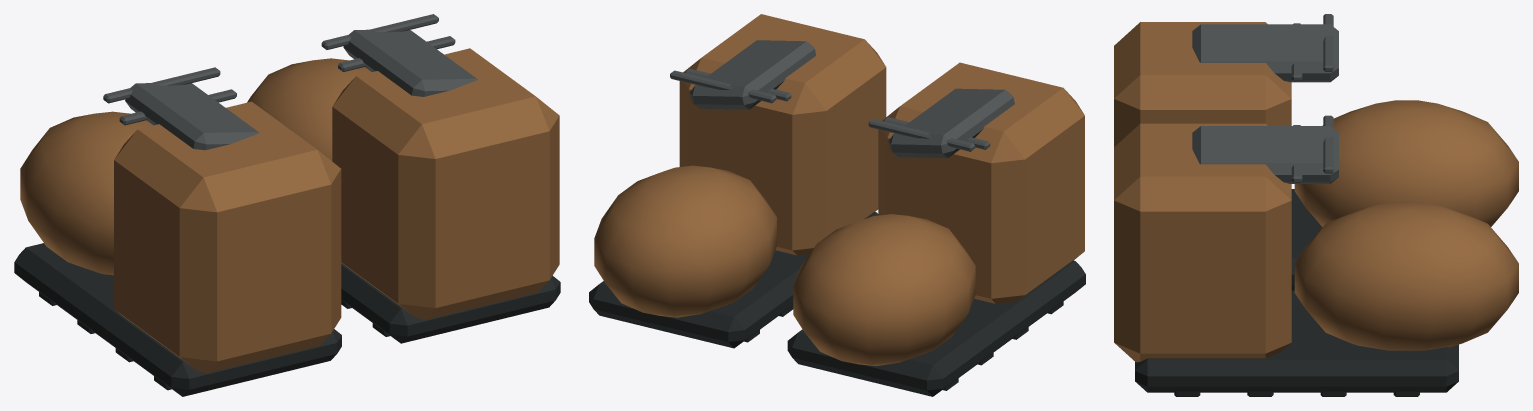
The model's file is item_work_boots.glb.
The picture shows the model from 3 angles, left to right: view 1: azimuth 30°, elevation 25°; view 2: azimuth 150°, elevation 25°; view 3: azimuth 270°, elevation 25°; orthographic projection. The views are drawn at different scales.
Visible parts, largest first — view 1: item_work_boots; view 2: item_work_boots; view 3: item_work_boots.
Boxes of the visible parts, left/top/right/bottom form: item_work_boots: left=14, top=14, right=560, bottom=396; item_work_boots: left=589, top=14, right=1085, bottom=396; item_work_boots: left=1114, top=14, right=1518, bottom=396.
Bounding box in the file's own units: 0.41 × 0.2374 × 0.3872.
